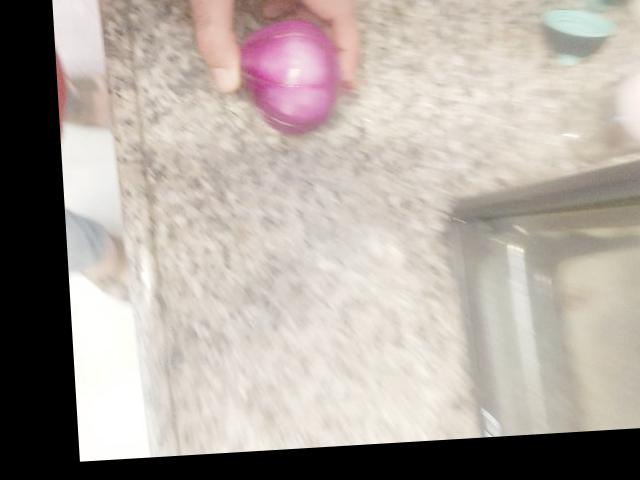onion: (225, 13, 352, 136)
